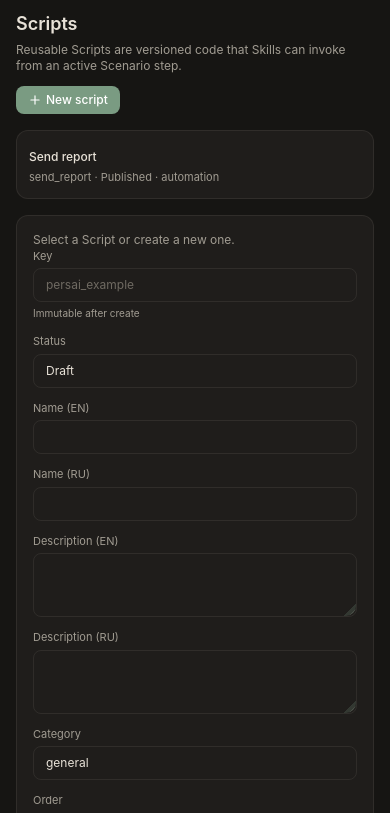
Test: AdminScriptsPage integration › creates a draft version by copying the last published version, not empty boilerplate
Click the button "Send report send_report · Published · automation". click: (63, 156)
box: top-left (17, 131), bottom-right (373, 198)
(page scrolled)
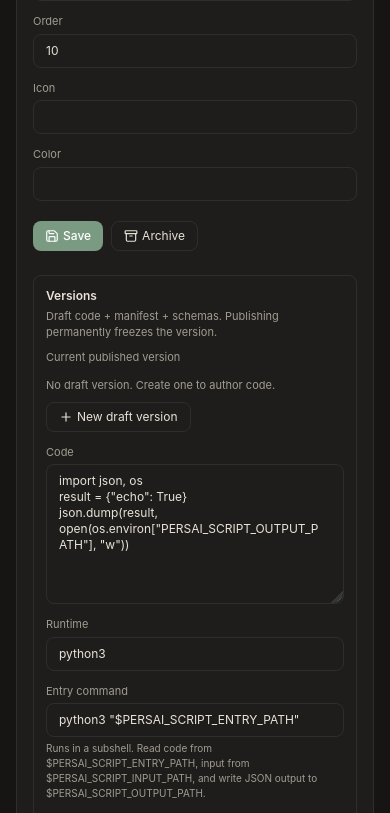
Check: the text "No draft version. Create one to author code." is shown, box top-left (46, 378), bottom-right (275, 392)
Click the button "New draft version". click: (118, 416)
box: top-left (46, 402), bottom-right (190, 432)
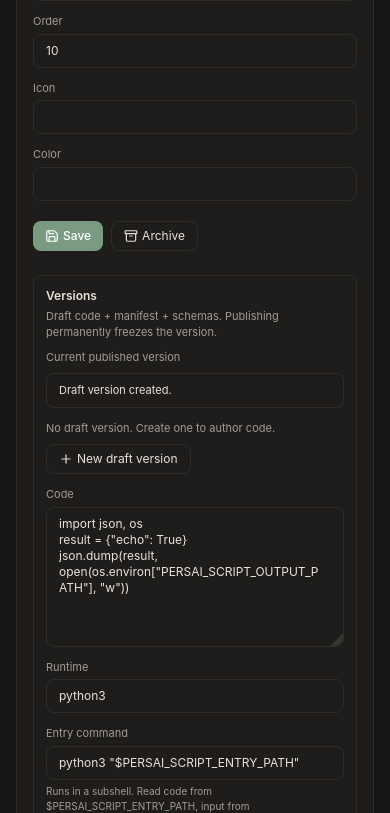
Check: the text "Draft version created." is shown, box top-left (46, 373), bottom-right (344, 408)
